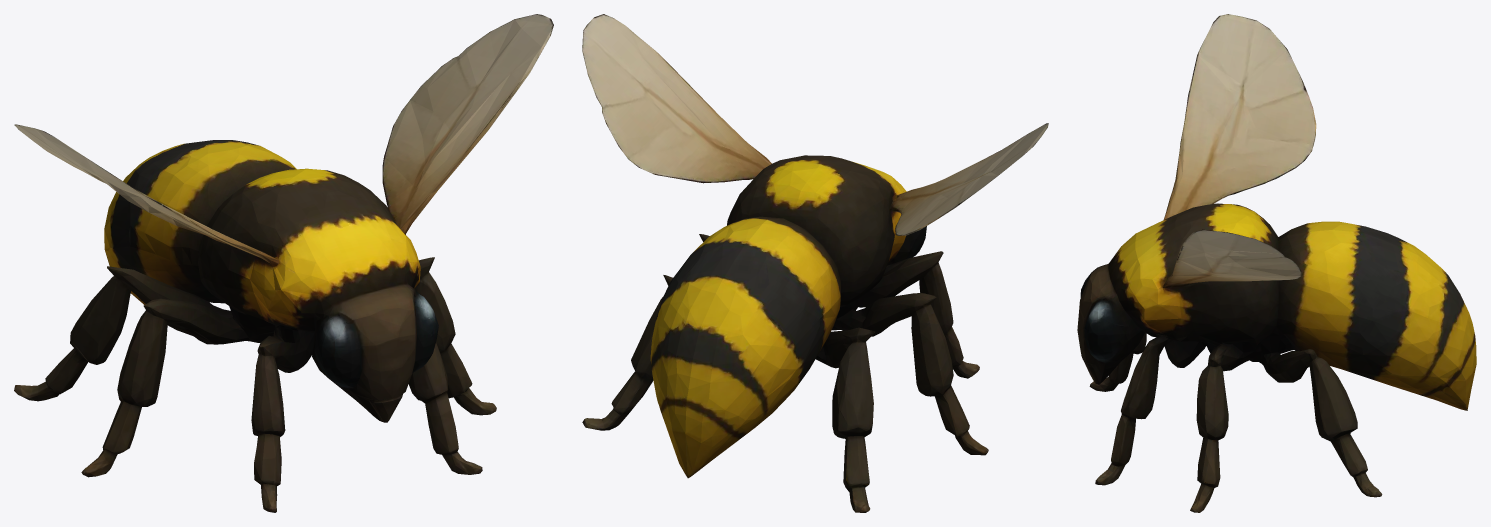
The model's file is bumblebee.glb.
The picture shows the model from 3 angles, left to right: view 1: azimuth 30°, elevation 25°; view 2: azimuth 150°, elevation 25°; view 3: azimuth 270°, elevation 25°; orthographic projection. The views are drawn at different scales.
Visible parts, largest first — view 1: world; view 2: world; view 3: world.
Part boxes in pixels (x1,y1,x2,y2): world: (14, 14, 553, 512); world: (582, 14, 1048, 512); world: (1077, 14, 1476, 512).
Size of the model in its own units: 0.9945 by 0.7082 by 0.7984.
1 material, 1 textured.
